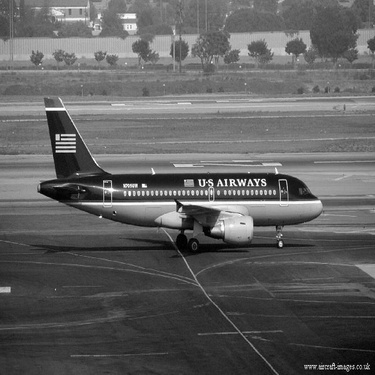airplane: (15, 85, 331, 261)
